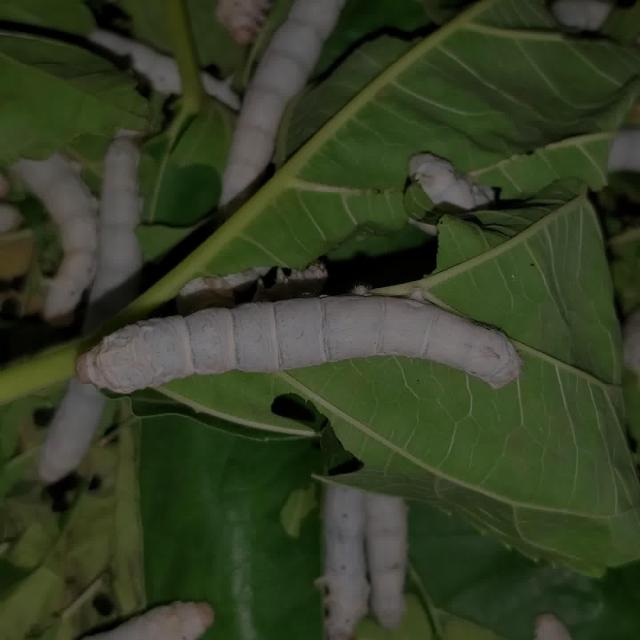Healthy: (58, 267, 558, 458)
